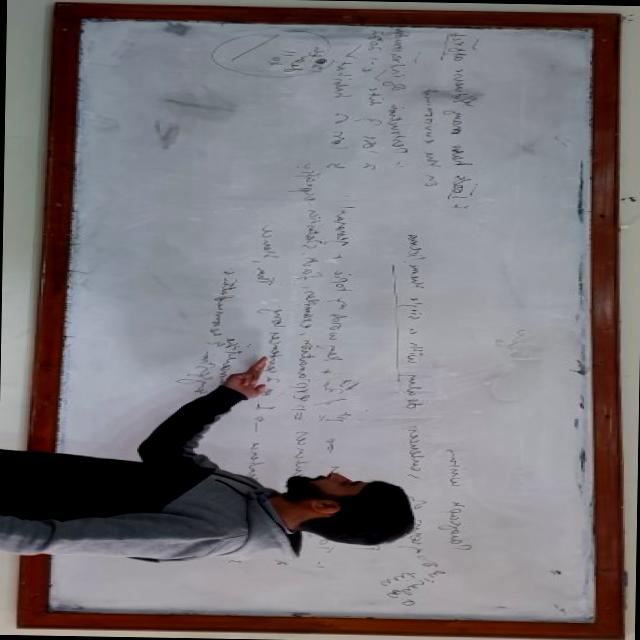Instructor: (12, 447, 430, 572)
White-board: (30, 9, 613, 628)
